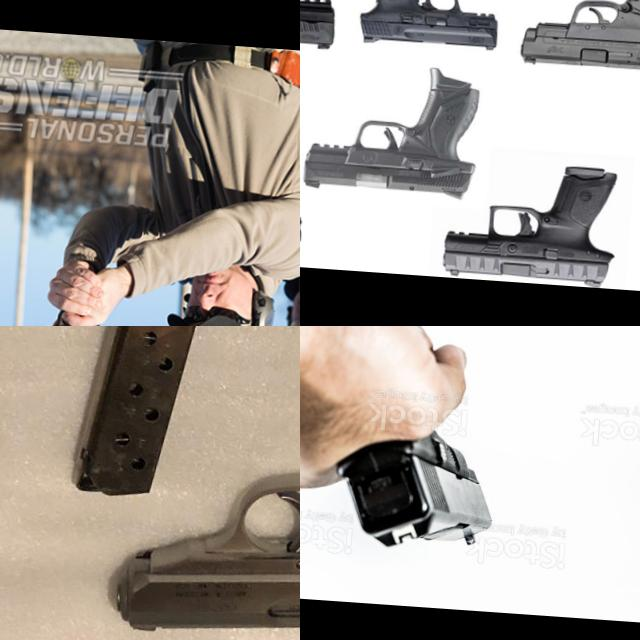handgun: (106, 326, 300, 640), (300, 55, 484, 205), (320, 414, 500, 556), (438, 155, 625, 289), (300, 124, 386, 252), (514, 0, 640, 80), (349, 0, 504, 61), (300, 0, 398, 77), (31, 306, 100, 326)
